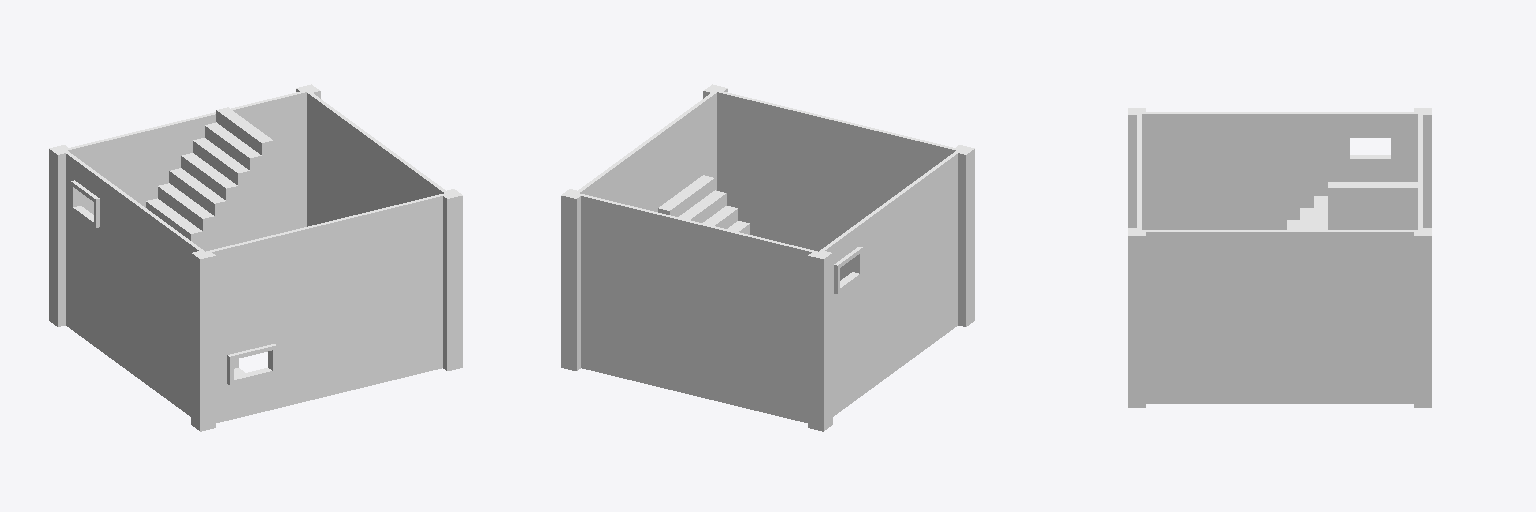
File: stairs4_wall_half.obj
The picture shows the model from 3 angles: view 1: azimuth 30°, elevation 25°; view 2: azimuth 150°, elevation 25°; view 3: azimuth 270°, elevation 25°; orthographic projection.
Visible parts, largest first — view 1: stairs4_wall_half; view 2: stairs4_wall_half; view 3: stairs4_wall_half.
Boxes of the visible parts, <box> form: stairs4_wall_half: <box>49,84,462,431</box>; stairs4_wall_half: <box>561,84,974,431</box>; stairs4_wall_half: <box>1128,108,1431,407</box>.
Size of the model in its own units: 67 by 43 by 67.